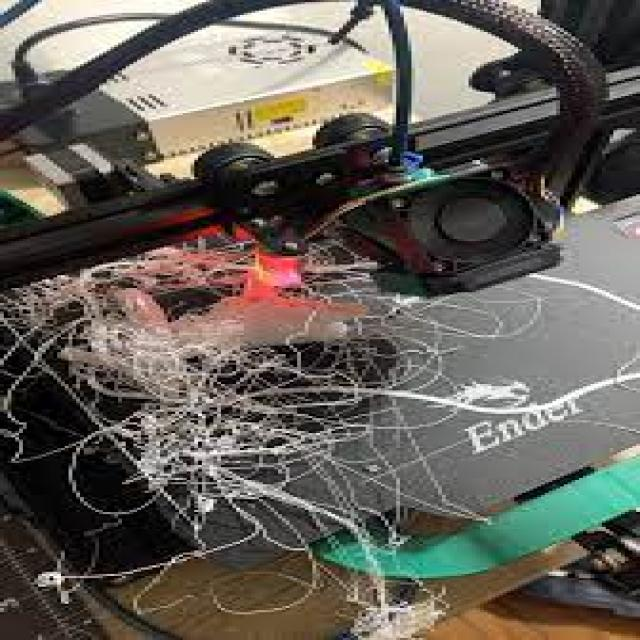spaghetti: (9, 251, 475, 561)
